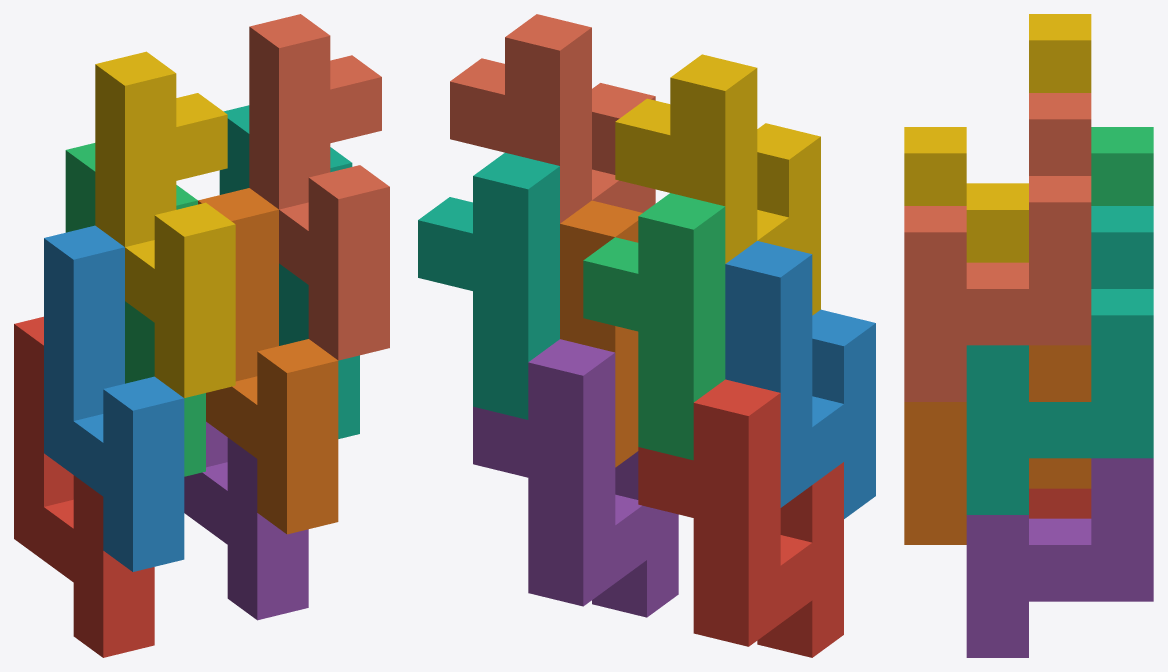
File: tiling.obj
3 views of the same model, side by side, from view 1: azimuth 30°, elevation 25°; view 2: azimuth 150°, elevation 25°; view 3: azimuth 270°, elevation 25° (orthographic). The views are drawn at different scales.
Visible parts, largest first — view 1: copy_1_domain_4, copy_1_domain_8, copy_1_domain_2, copy_1_domain_6, copy_1_domain_1, copy_1_domain_5, copy_1_domain_3, copy_1_domain_7; view 2: copy_1_domain_1, copy_1_domain_5, copy_1_domain_2, copy_1_domain_4, copy_1_domain_3, copy_1_domain_7, copy_1_domain_8, copy_1_domain_6; view 3: copy_1_domain_8, copy_1_domain_7, copy_1_domain_5, copy_1_domain_4, copy_1_domain_6, copy_1_domain_3, copy_1_domain_1.
Boxes of the visible parts, box(x1,y1,x2,y2) form: copy_1_domain_4: box(95, 51, 235, 398); copy_1_domain_8: box(249, 14, 389, 360); copy_1_domain_2: box(44, 225, 184, 571); copy_1_domain_6: box(198, 188, 338, 534); copy_1_domain_1: box(14, 316, 154, 657); copy_1_domain_5: box(184, 421, 308, 620); copy_1_domain_3: box(65, 143, 205, 476); copy_1_domain_7: box(219, 105, 359, 438); copy_1_domain_1: box(638, 379, 843, 657); copy_1_domain_5: box(473, 339, 678, 617); copy_1_domain_2: box(725, 241, 875, 518); copy_1_domain_4: box(615, 54, 820, 315); copy_1_domain_3: box(583, 193, 725, 460); copy_1_domain_7: box(418, 152, 559, 419); copy_1_domain_8: box(450, 14, 655, 223); copy_1_domain_6: box(560, 200, 642, 467); copy_1_domain_8: box(904, 93, 1091, 401); copy_1_domain_7: box(966, 206, 1153, 514); copy_1_domain_5: box(966, 458, 1153, 657); copy_1_domain_4: box(904, 14, 1091, 262); copy_1_domain_6: box(904, 345, 1091, 544); copy_1_domain_3: box(1091, 127, 1153, 205); copy_1_domain_1: box(1029, 488, 1091, 518).
Bounding box in the file's own units: 6 × 10 × 4.
